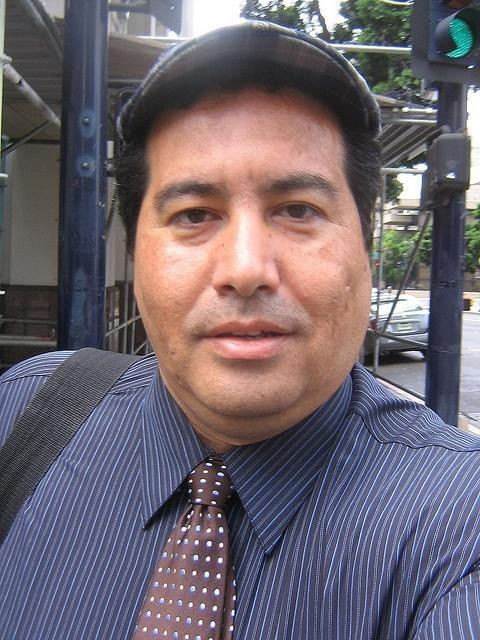car: (359, 287, 430, 365)
